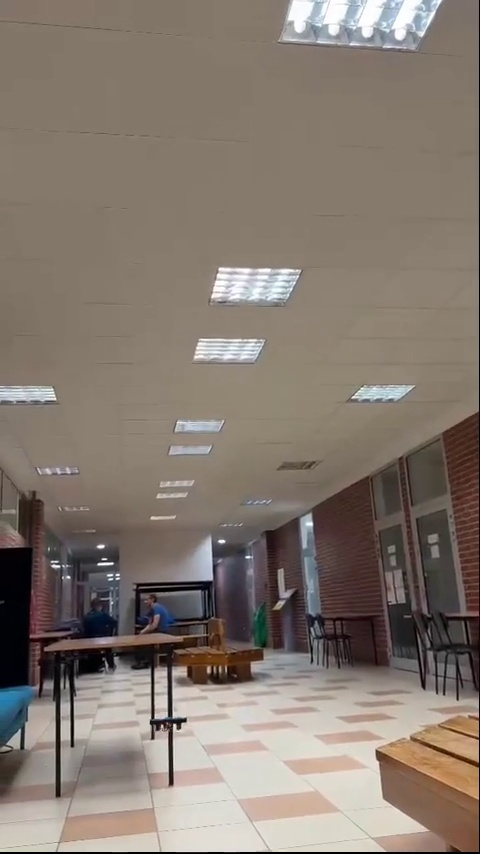drone: (147, 716, 187, 733)
no vest: (139, 591, 173, 635), (87, 598, 116, 636)
